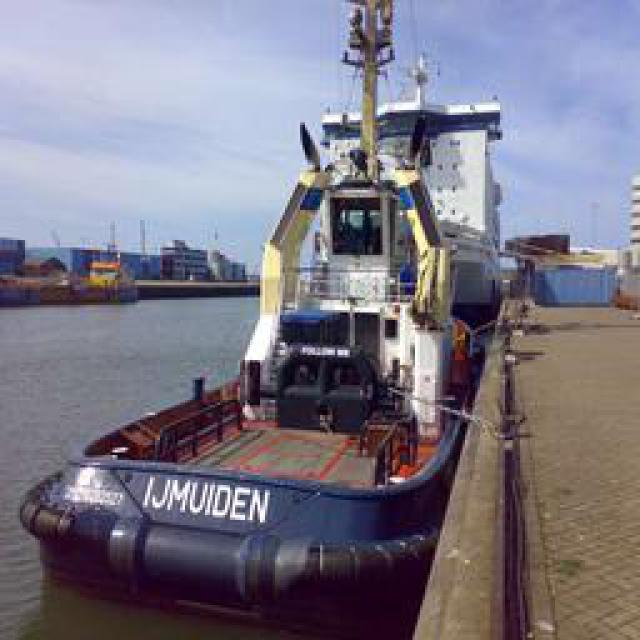Ship: (21, 81, 511, 614)
